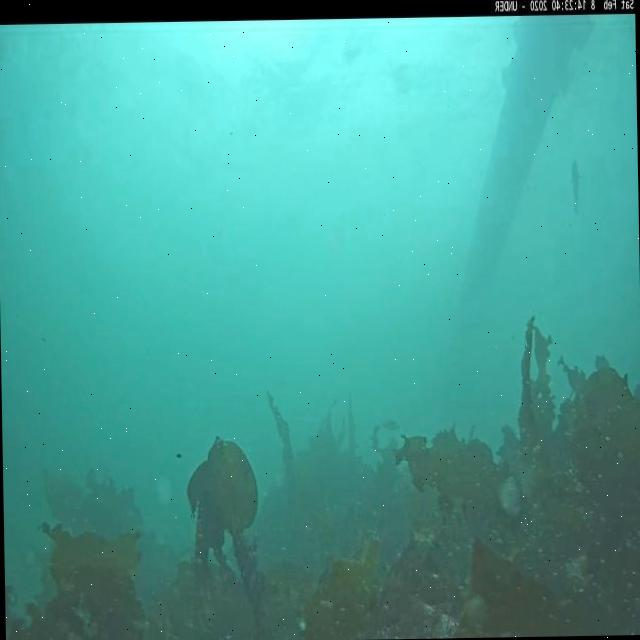fish: (572, 160, 580, 212)
